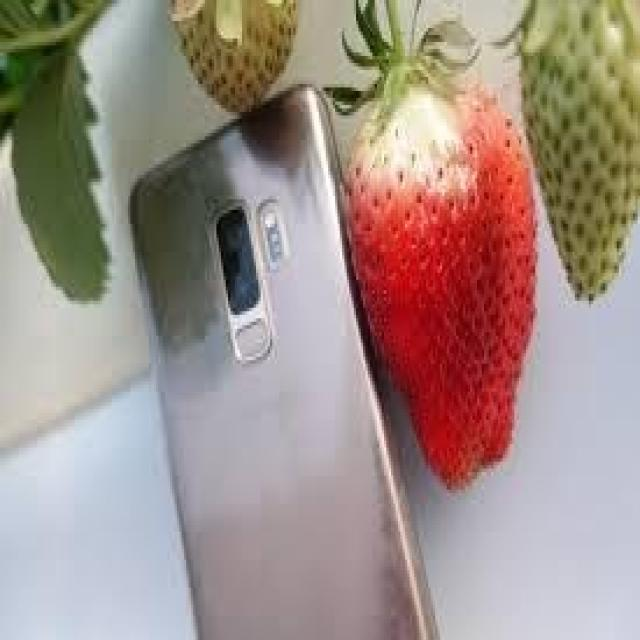immature: (522, 0, 638, 303)
mature: (343, 76, 538, 491)
